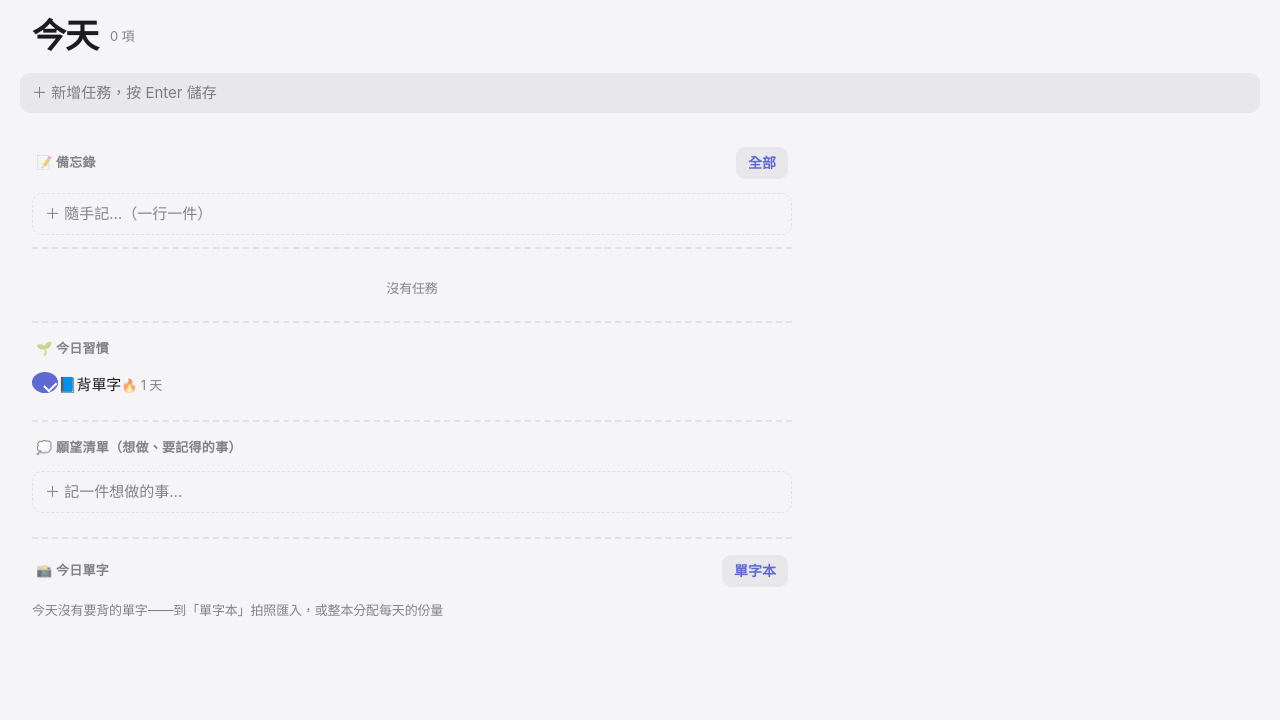
it: Today 今日習慣打卡的寫入／刷新邊界 › 取消打卡已寫入但刷新失敗時，提示的是取消而不是打卡
Click the checkbox named "背單字 今日打卡": coordinates (45, 383) [32,372,58,393]
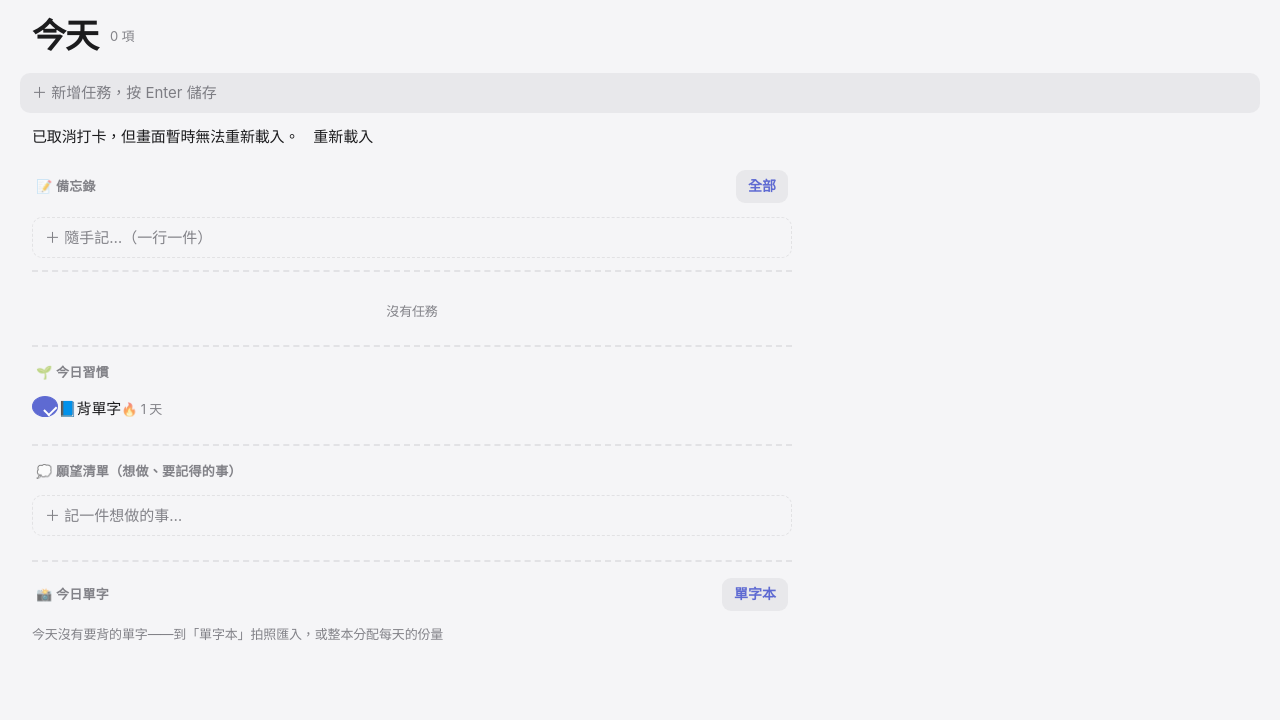
Check: the message shows "已取消打卡，但畫面暫時無法重新載入。", box [32,126,299,146]
